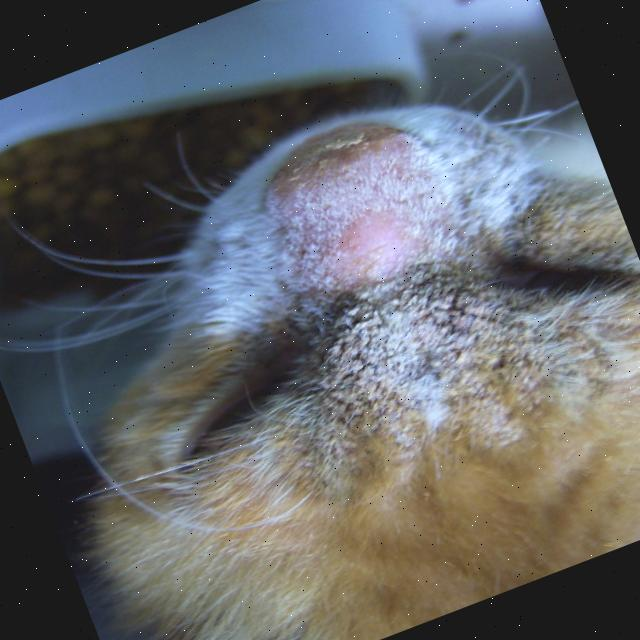cat-scabies: (327, 272, 520, 420)
